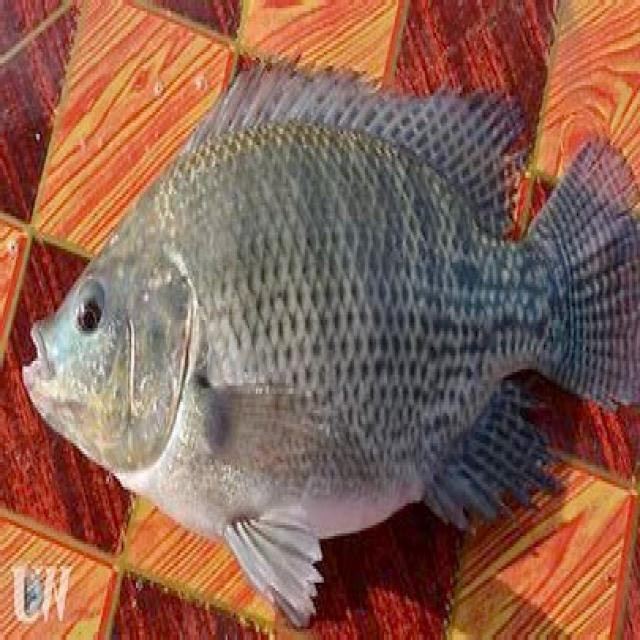Tilapia: (22, 64, 640, 625)
